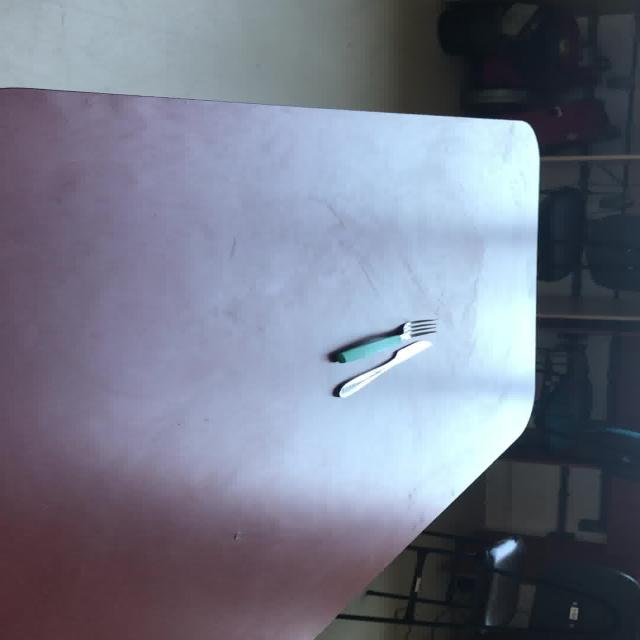fork: (331, 317, 436, 363)
knife fork: (331, 339, 432, 398)
